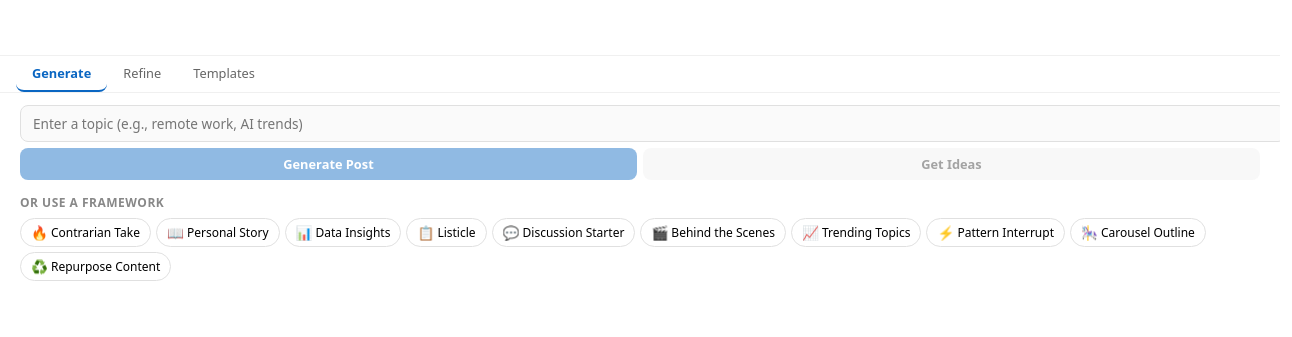
it: AiPanel › shows error message on API failure
Click the button "Refine": (142, 74) left=107, top=56, right=177, bottom=92
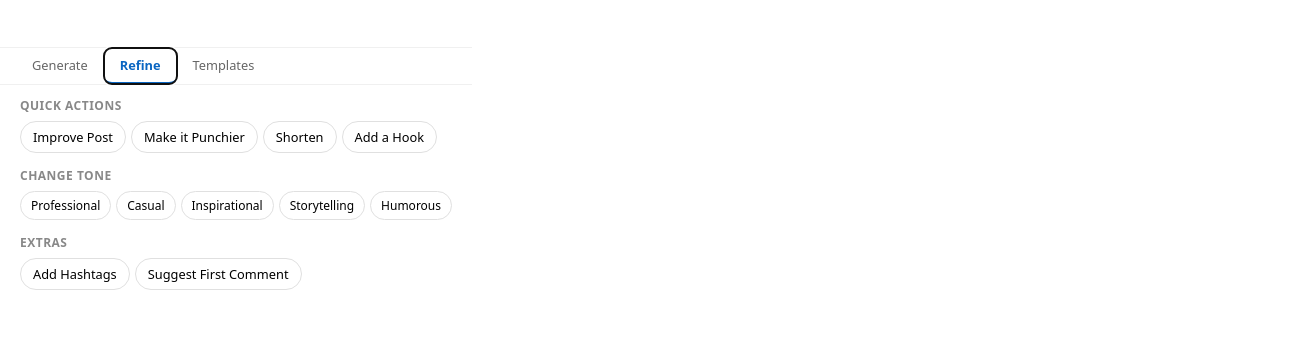
Click the button "Improve Post": (73, 136) left=20, top=120, right=126, bottom=152
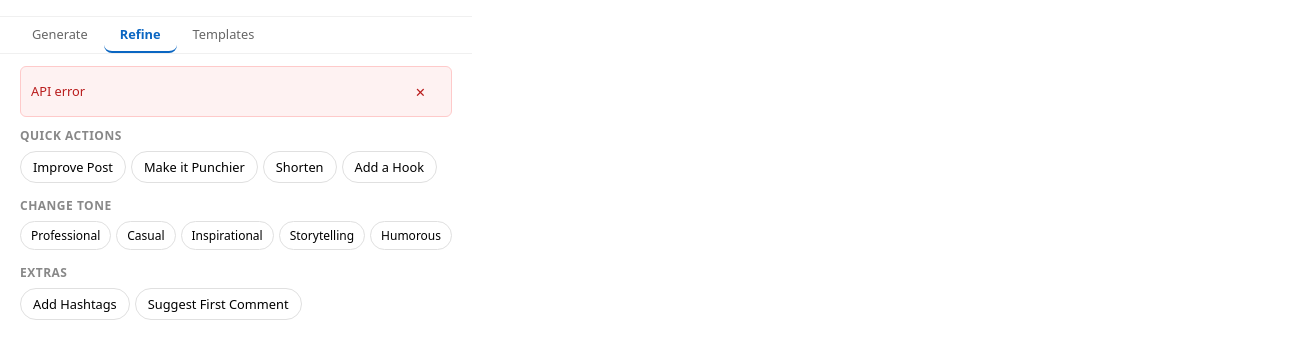
Result: the text "API error" is shown at left=31, top=82, right=85, bottom=100
